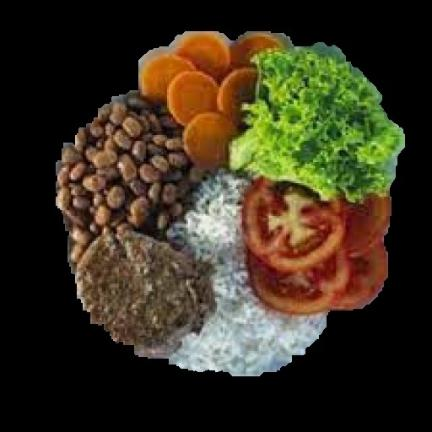beans: (56, 92, 202, 270)
carrot: (139, 33, 286, 168)
meat: (76, 231, 215, 357)
rice: (168, 172, 326, 376)
salad: (229, 44, 404, 203)
tomato: (240, 177, 391, 315)
